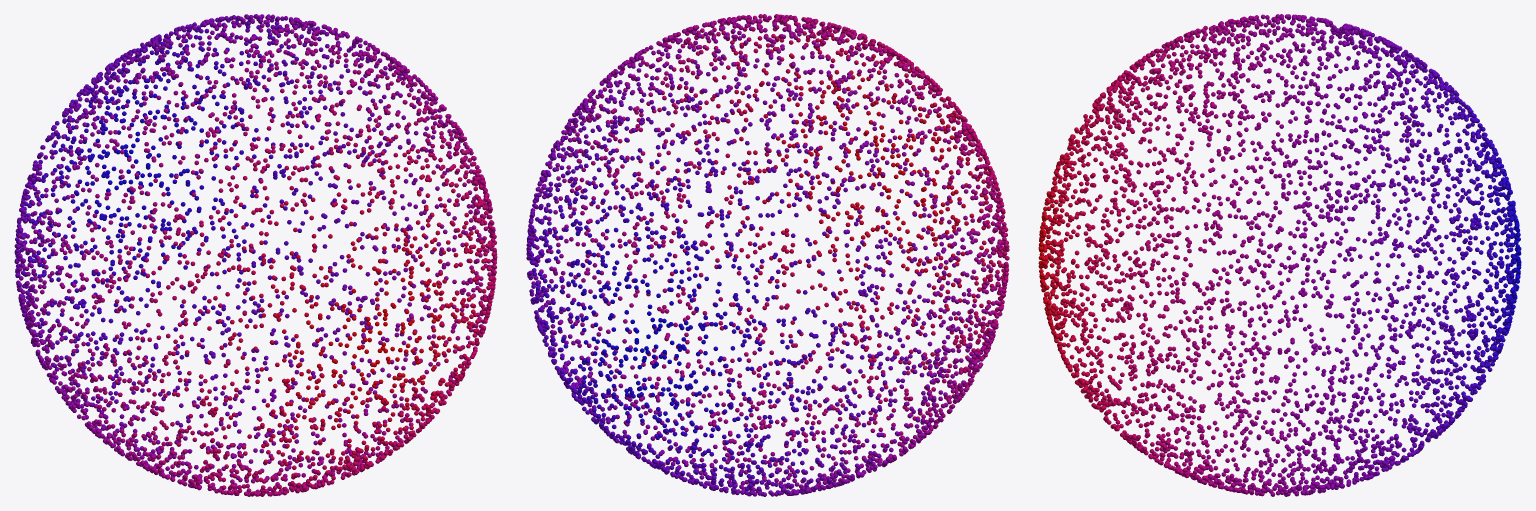
File: fsaverage_lh_heat.glb
3 renders of one model, left to right at view 1: azimuth 30°, elevation 25°; view 2: azimuth 150°, elevation 25°; view 3: azimuth 270°, elevation 25°, orthographic.
Parts seen in each view (by area): view 1: world; view 2: world; view 3: world.
Part boxes in pixels (box(x1,y1,x2,y2)): world: box(14, 14, 497, 496); world: box(526, 14, 1009, 496); world: box(1038, 14, 1521, 496).
Size of the model in its own units: 202 by 202 by 202.
